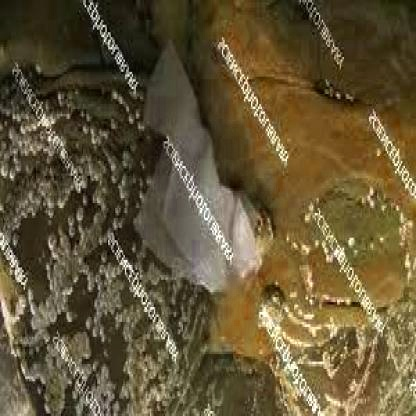pbag: (133, 37, 265, 297)
